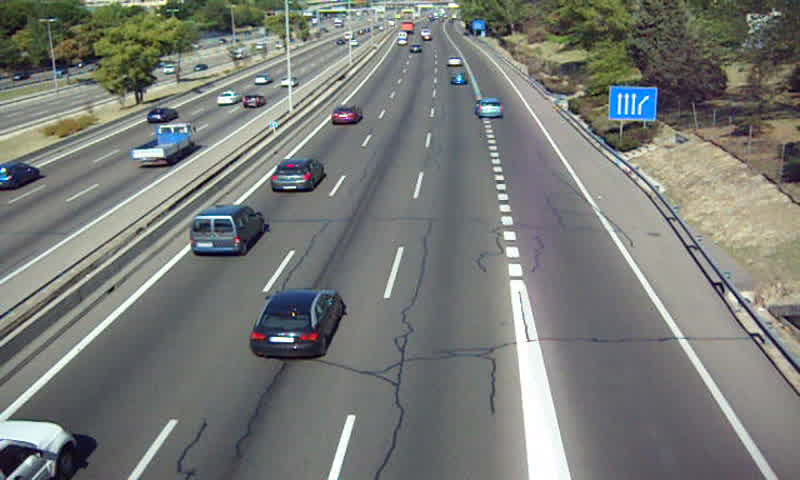car: (248, 289, 343, 359), (270, 160, 325, 192), (331, 105, 362, 126), (474, 97, 503, 118), (448, 72, 468, 86), (446, 55, 465, 66)
van: (190, 204, 264, 258)
